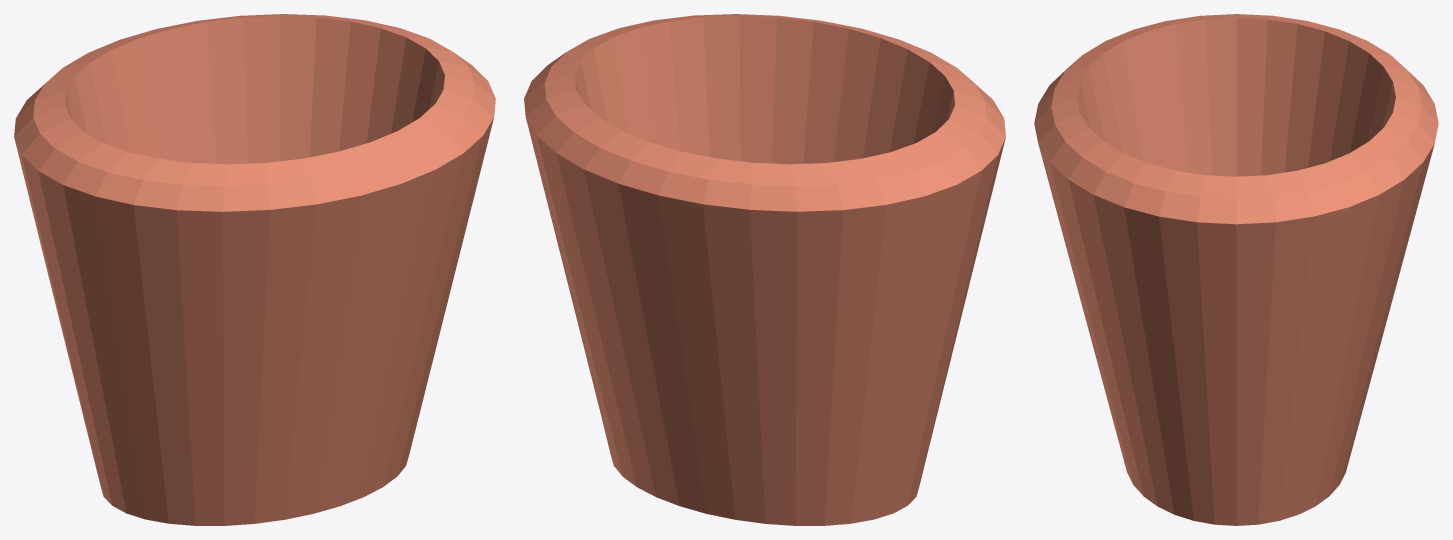
File: basket02.fbx
3 views of the same model, side by side, from view 1: azimuth 30°, elevation 25°; view 2: azimuth 150°, elevation 25°; view 3: azimuth 270°, elevation 25° (orthographic). The views are drawn at different scales.
Parts seen in each view (by area): view 1: basket02; view 2: basket02; view 3: basket02.
Part boxes in pixels (x1=…): basket02: x1=14, y1=14, x2=495, y2=525; basket02: x1=524, y1=14, x2=1005, y2=525; basket02: x1=1034, y1=14, x2=1438, y2=525.
Size of the model in its own units: 102 by 85.54 by 86.52.
